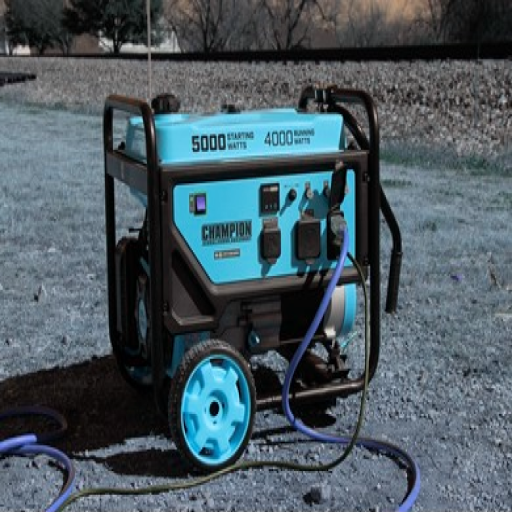portable_generator: (100, 84, 403, 473)
